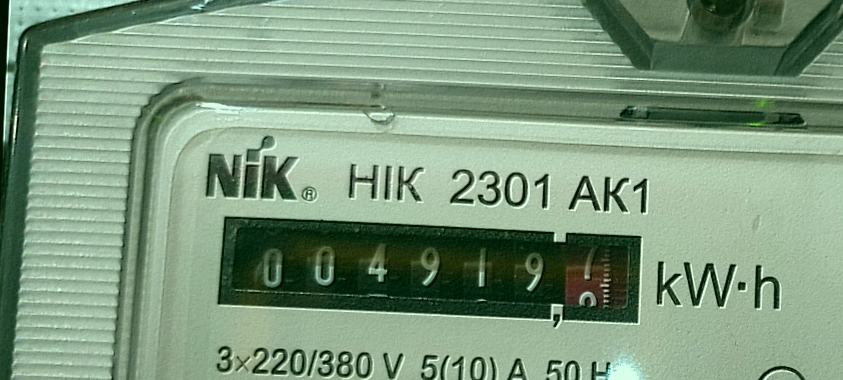0: (311, 241, 339, 288), (260, 244, 285, 289)
1: (473, 243, 490, 289)
4: (364, 239, 390, 283)
7: (575, 241, 600, 282)
9: (521, 248, 546, 295), (417, 244, 442, 289)
screen: (206, 201, 660, 341)
